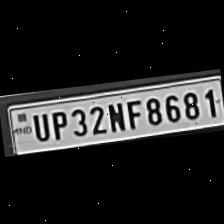1: (199, 84, 220, 118)
2: (84, 100, 106, 134)
3: (66, 104, 88, 137)
6: (160, 90, 182, 124)
8: (178, 87, 202, 120), (141, 92, 163, 125)
F: (121, 94, 143, 128)
N: (104, 97, 126, 132)
P: (47, 106, 69, 139)
U: (28, 109, 50, 141)
